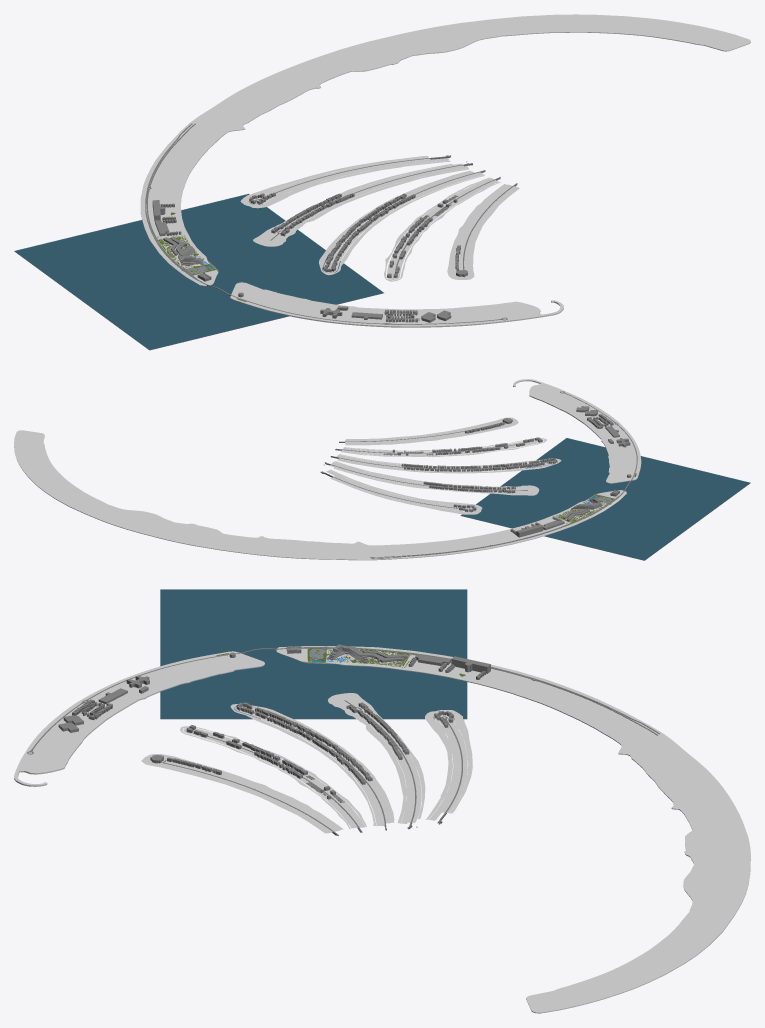
File: Ground.glb
The picture shows the model from 3 angles, top to bottom: view 1: azimuth 30°, elevation 25°; view 2: azimuth 150°, elevation 25°; view 3: azimuth 270°, elevation 25°; orthographic projection. The views are drawn at different scales.
Parts seen in each view (by area): view 1: land, ocean, build, road; view 2: land, ocean, build, road; view 3: land, ocean, build, road.
Part boxes in pixels (left/top/right/bottom): land: left=140, top=14, right=750, bottom=327; ocean: left=14, top=194, right=383, bottom=350; build: left=152, top=192, right=467, bottom=322; road: left=145, top=123, right=517, bottom=324; land: left=14, top=379, right=641, bottom=560; ocean: left=460, top=438, right=750, bottom=560; build: left=383, top=406, right=631, bottom=537; road: left=320, top=391, right=637, bottom=558; land: left=14, top=646, right=750, bottom=1013; ocean: left=160, top=589, right=467, bottom=719; build: left=58, top=644, right=490, bottom=802; road: left=27, top=646, right=659, bottom=835.
Size of the model in its own units: 6540 by 63.24 by 4804.
23 materials, 8 textured.
